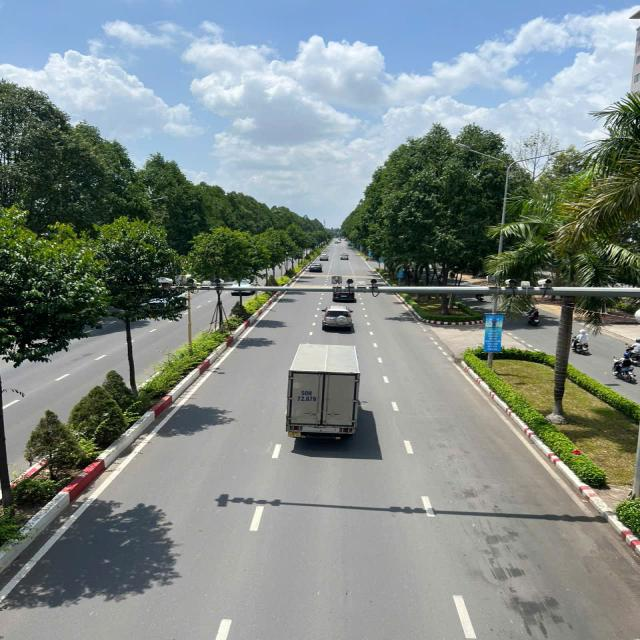Dump Truck: (291, 342, 366, 441)
car: (322, 303, 355, 330), (331, 285, 357, 300), (309, 260, 323, 272), (338, 254, 349, 262), (318, 253, 329, 260), (335, 240, 342, 244)
